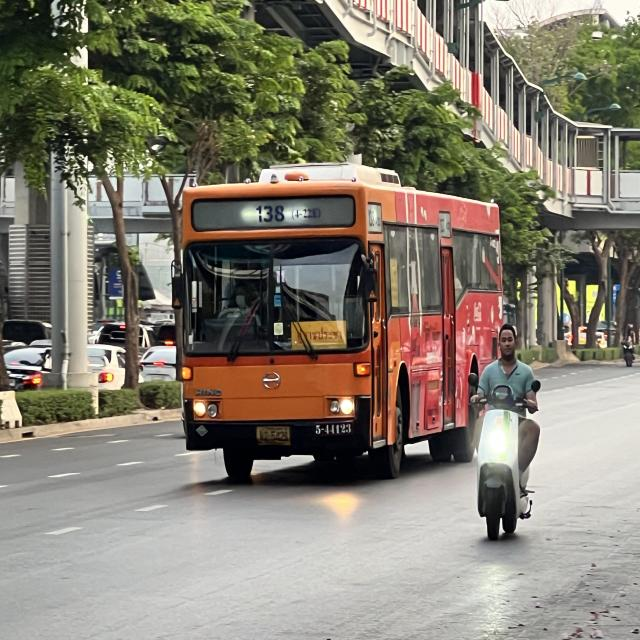BMTA-bus: (161, 154, 511, 483)
Bus-Line-Number: (249, 198, 325, 227)
Destination-Sign-Normal-Expressway: (290, 321, 350, 348)
